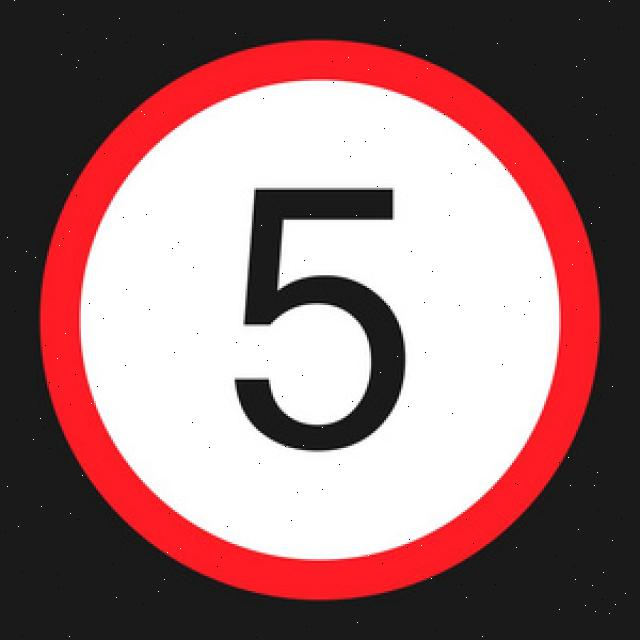speed limit 10: (36, 37, 601, 602)
